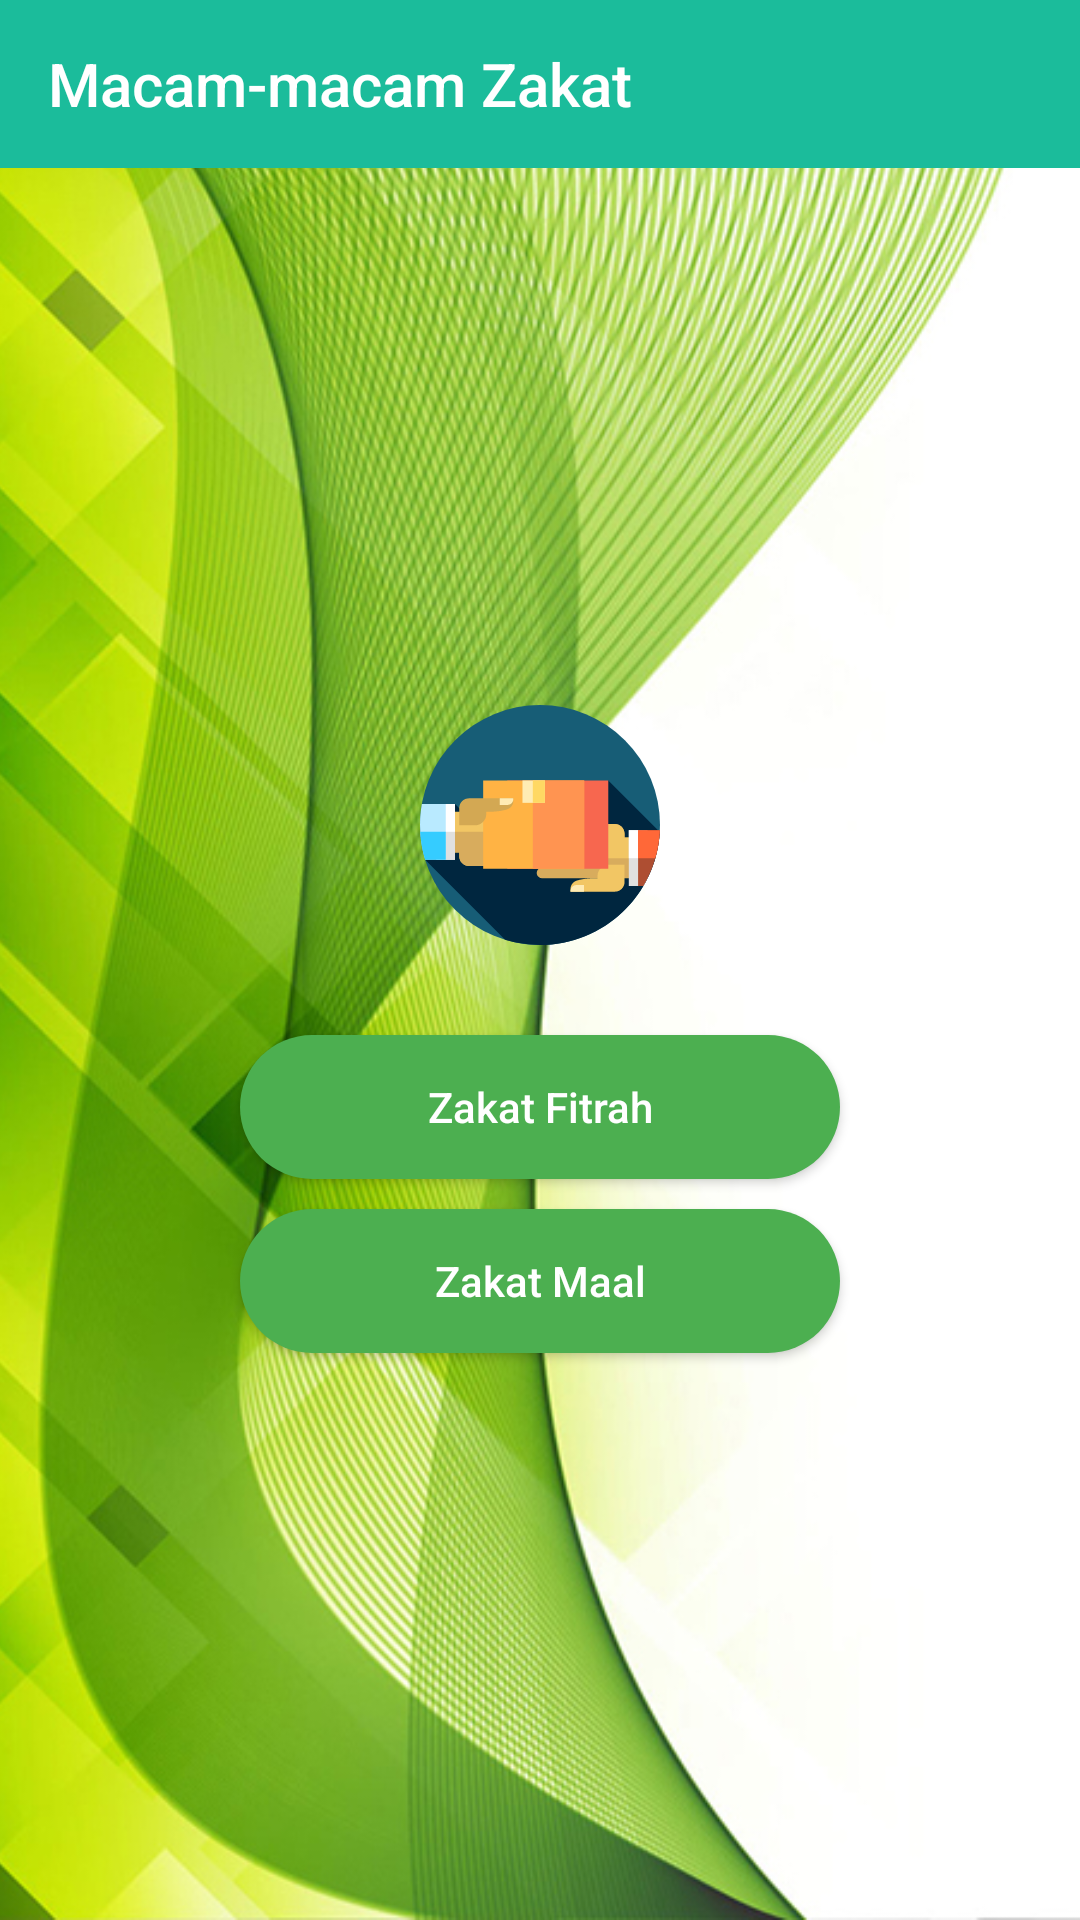

Screen size 1080x1920. Icon name, then its center in pixels as (x=x, y=y):
give: (x=540, y=825)
